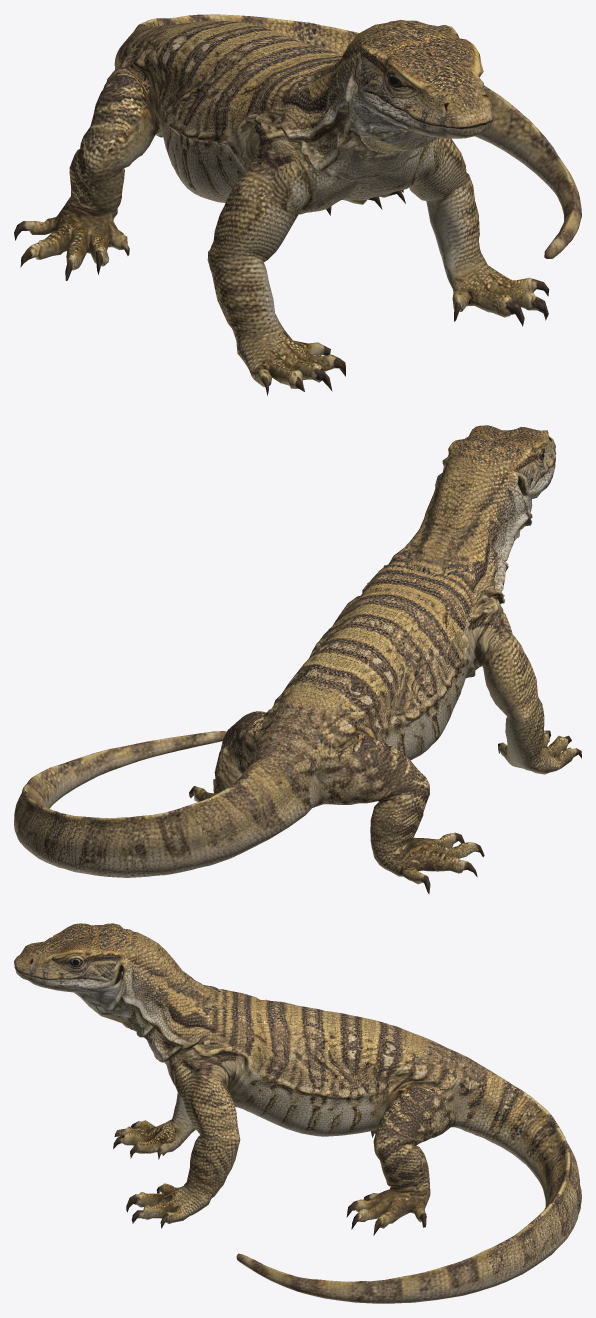
The model's file is monitor.glb.
The picture shows the model from 3 angles, top to bottom: view 1: azimuth 30°, elevation 25°; view 2: azimuth 150°, elevation 25°; view 3: azimuth 270°, elevation 25°; orthographic projection. The views are drawn at different scales.
Parts seen in each view (by area): view 1: tripo_node_48999577-2e83-43b4-894e-5c45223c4315; view 2: tripo_node_48999577-2e83-43b4-894e-5c45223c4315; view 3: tripo_node_48999577-2e83-43b4-894e-5c45223c4315.
Boxes of the visible parts, box(x1,y1,x2,y2) form: tripo_node_48999577-2e83-43b4-894e-5c45223c4315: box(14, 14, 581, 395); tripo_node_48999577-2e83-43b4-894e-5c45223c4315: box(14, 425, 581, 894); tripo_node_48999577-2e83-43b4-894e-5c45223c4315: box(14, 923, 581, 1303).
Bounding box in the file's own units: 0.7575 × 0.5009 × 1.
1 material, 1 textured.
